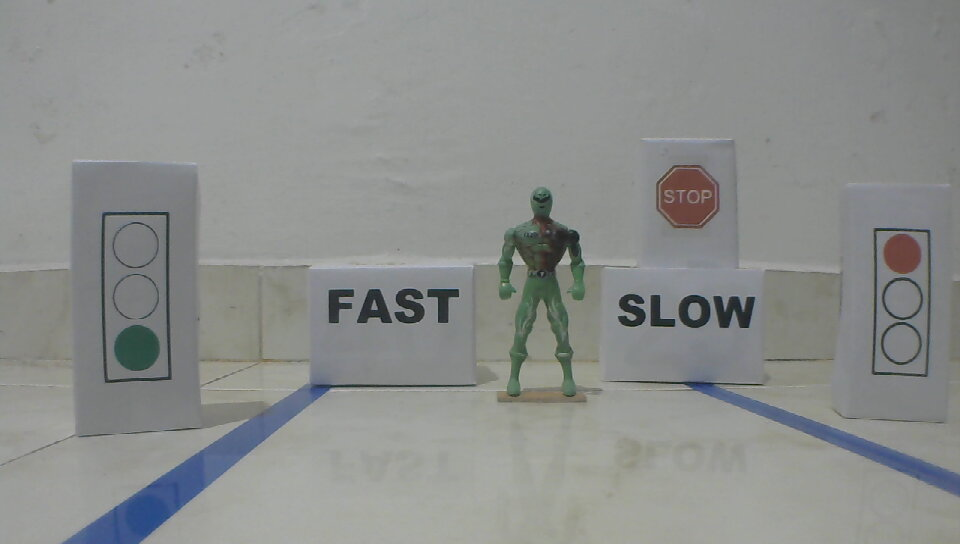Fast: (326, 286, 463, 327)
Green Traffic Light: (97, 208, 177, 387)
Person: (493, 184, 588, 399)
Red Traffic Light: (870, 228, 933, 380)
Slow: (615, 292, 758, 332)
Stop Sign: (654, 162, 722, 231)
